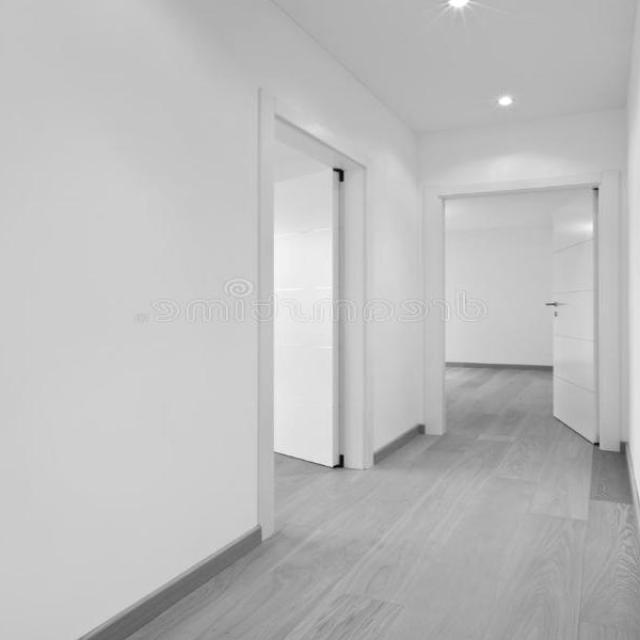door: (546, 195, 602, 458)
